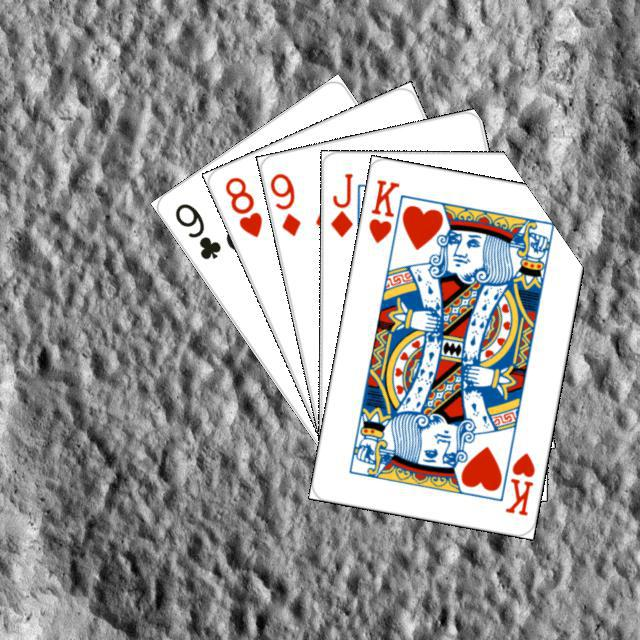8h: (220, 171, 264, 239)
9c: (169, 198, 223, 262)
9d: (266, 168, 302, 238)
Jd: (326, 168, 355, 239)
Kh: (363, 174, 408, 254), (500, 447, 537, 518)
